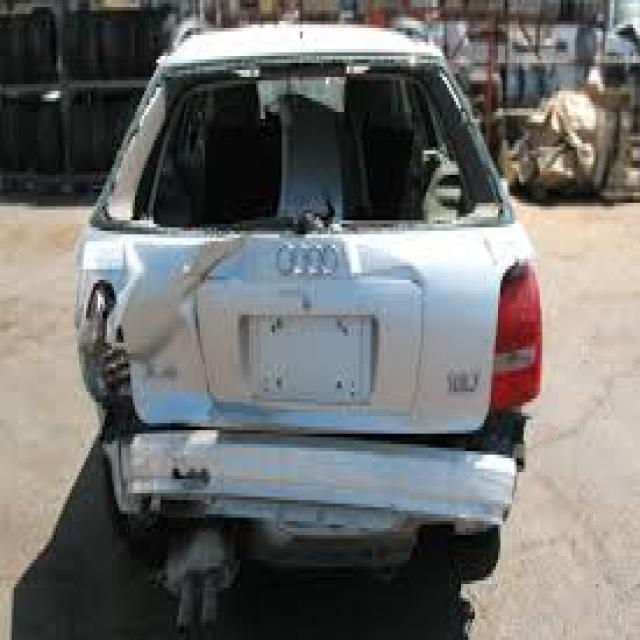moderate: (89, 15, 502, 546)
